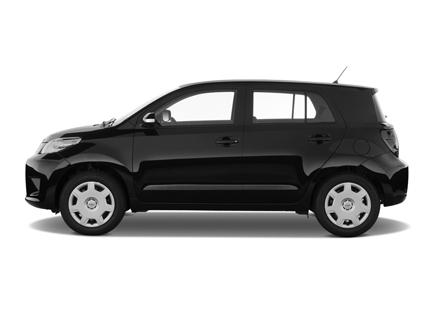car: (24, 64, 413, 241)
